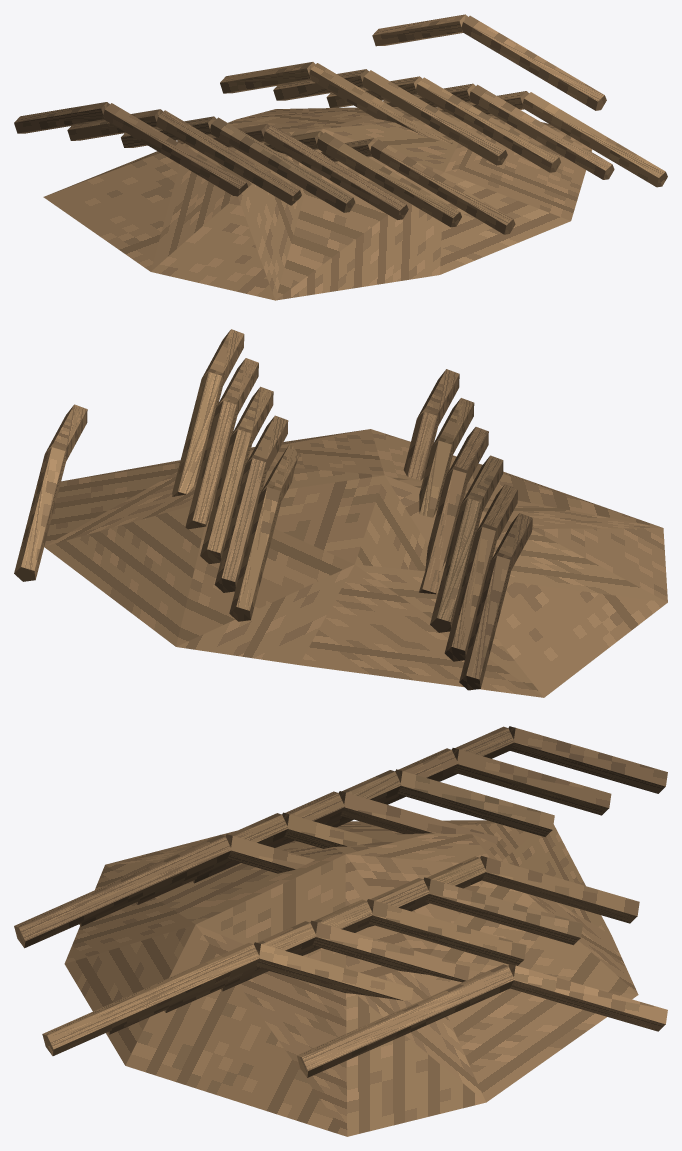
The model's file is tinder.glb.
The picture shows the model from 3 angles, top to bottom: view 1: azimuth 30°, elevation 25°; view 2: azimuth 150°, elevation 25°; view 3: azimuth 270°, elevation 25°; orthographic projection. The views are drawn at different scales.
Parts seen in each view (by area): view 1: block_loose bundle, block_individual fiber 1 (×12), block_individual fiber 0 (×8); view 2: block_loose bundle, block_individual fiber 0 (×12), block_individual fiber 1 (×12); view 3: block_loose bundle, block_individual fiber 0 (×12), block_individual fiber 1 (×12).
Boxes of the visible parts, left/top/right/bottom form: block_loose bundle: left=43, top=107, right=592, bottom=300; block_individual fiber 1 (×12): left=102, top=15, right=667, bottom=234; block_individual fiber 0 (×8): left=14, top=14, right=475, bottom=147; block_loose bundle: left=44, top=429, right=667, bottom=697; block_individual fiber 0 (×12): left=14, top=372, right=511, bottom=690; block_individual fiber 1 (×12): left=44, top=329, right=532, bottom=570; block_loose bundle: left=64, top=820, right=638, bottom=1136; block_individual fiber 0 (×12): left=225, top=726, right=667, bottom=1031; block_individual fiber 1 (×12): left=14, top=726, right=514, bottom=1077.
Bounding box in the file's own units: 0.1184 × 0.022 × 0.1032.
1 material, 1 textured.
